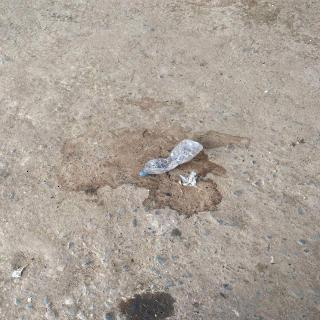Plastic-bottle: (137, 137, 207, 179)
